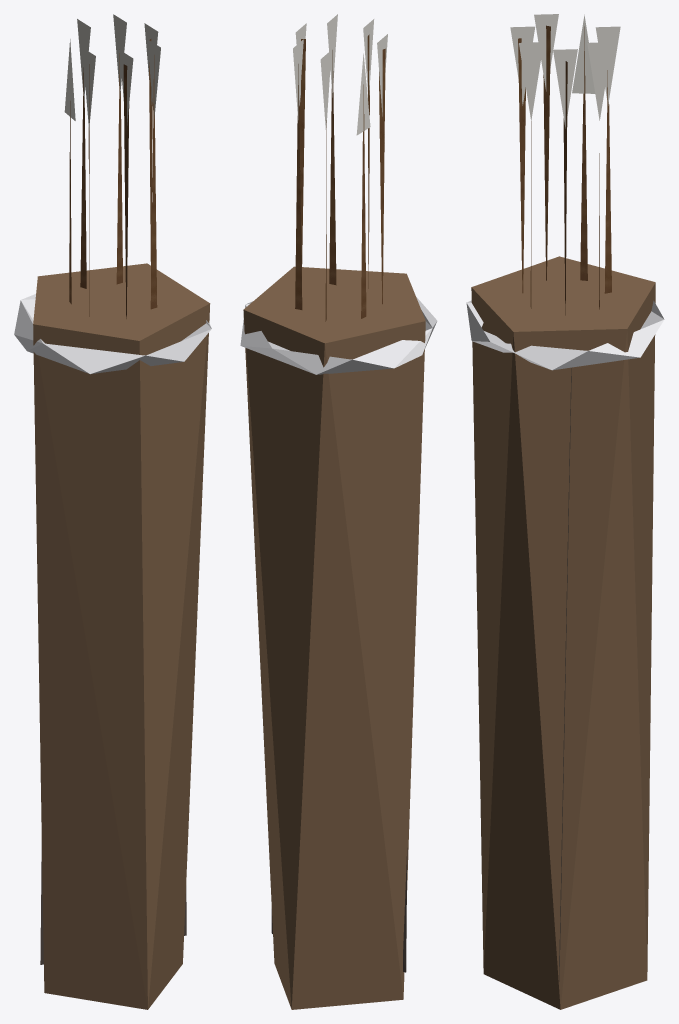
Rendered from quiver_lod2.glb.
3 views of the same model, side by side, from view 1: azimuth 30°, elevation 25°; view 2: azimuth 150°, elevation 25°; view 3: azimuth 270°, elevation 25° (orthographic).
Parts seen in each view (by area): view 1: m; view 2: m; view 3: m.
Boxes of the visible parts, box(x1,y1,x2,y2) form: m: box(14, 14, 211, 1009); m: box(240, 14, 437, 1009); m: box(466, 14, 664, 1009).
Size of the model in its own units: 0.1588 by 0.8351 by 0.1584.
Materials: 5 (1 with a texture image).
